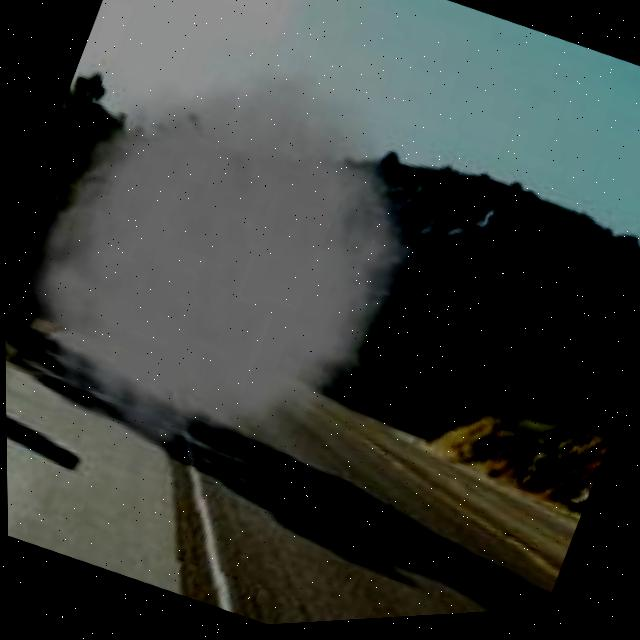Smoke: (0, 0, 486, 550)
